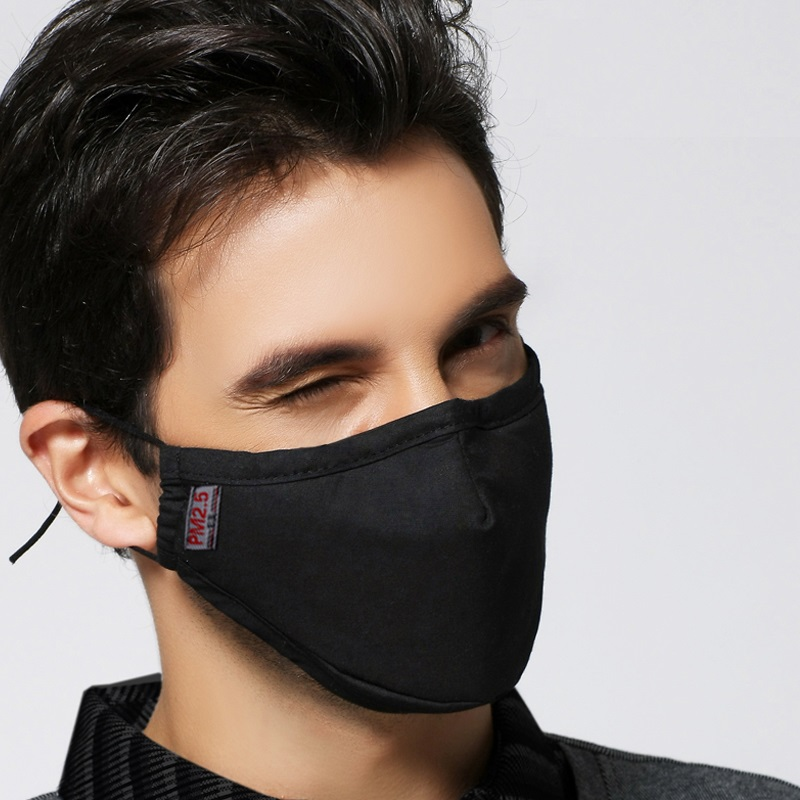face_mask: (154, 145, 552, 693)
